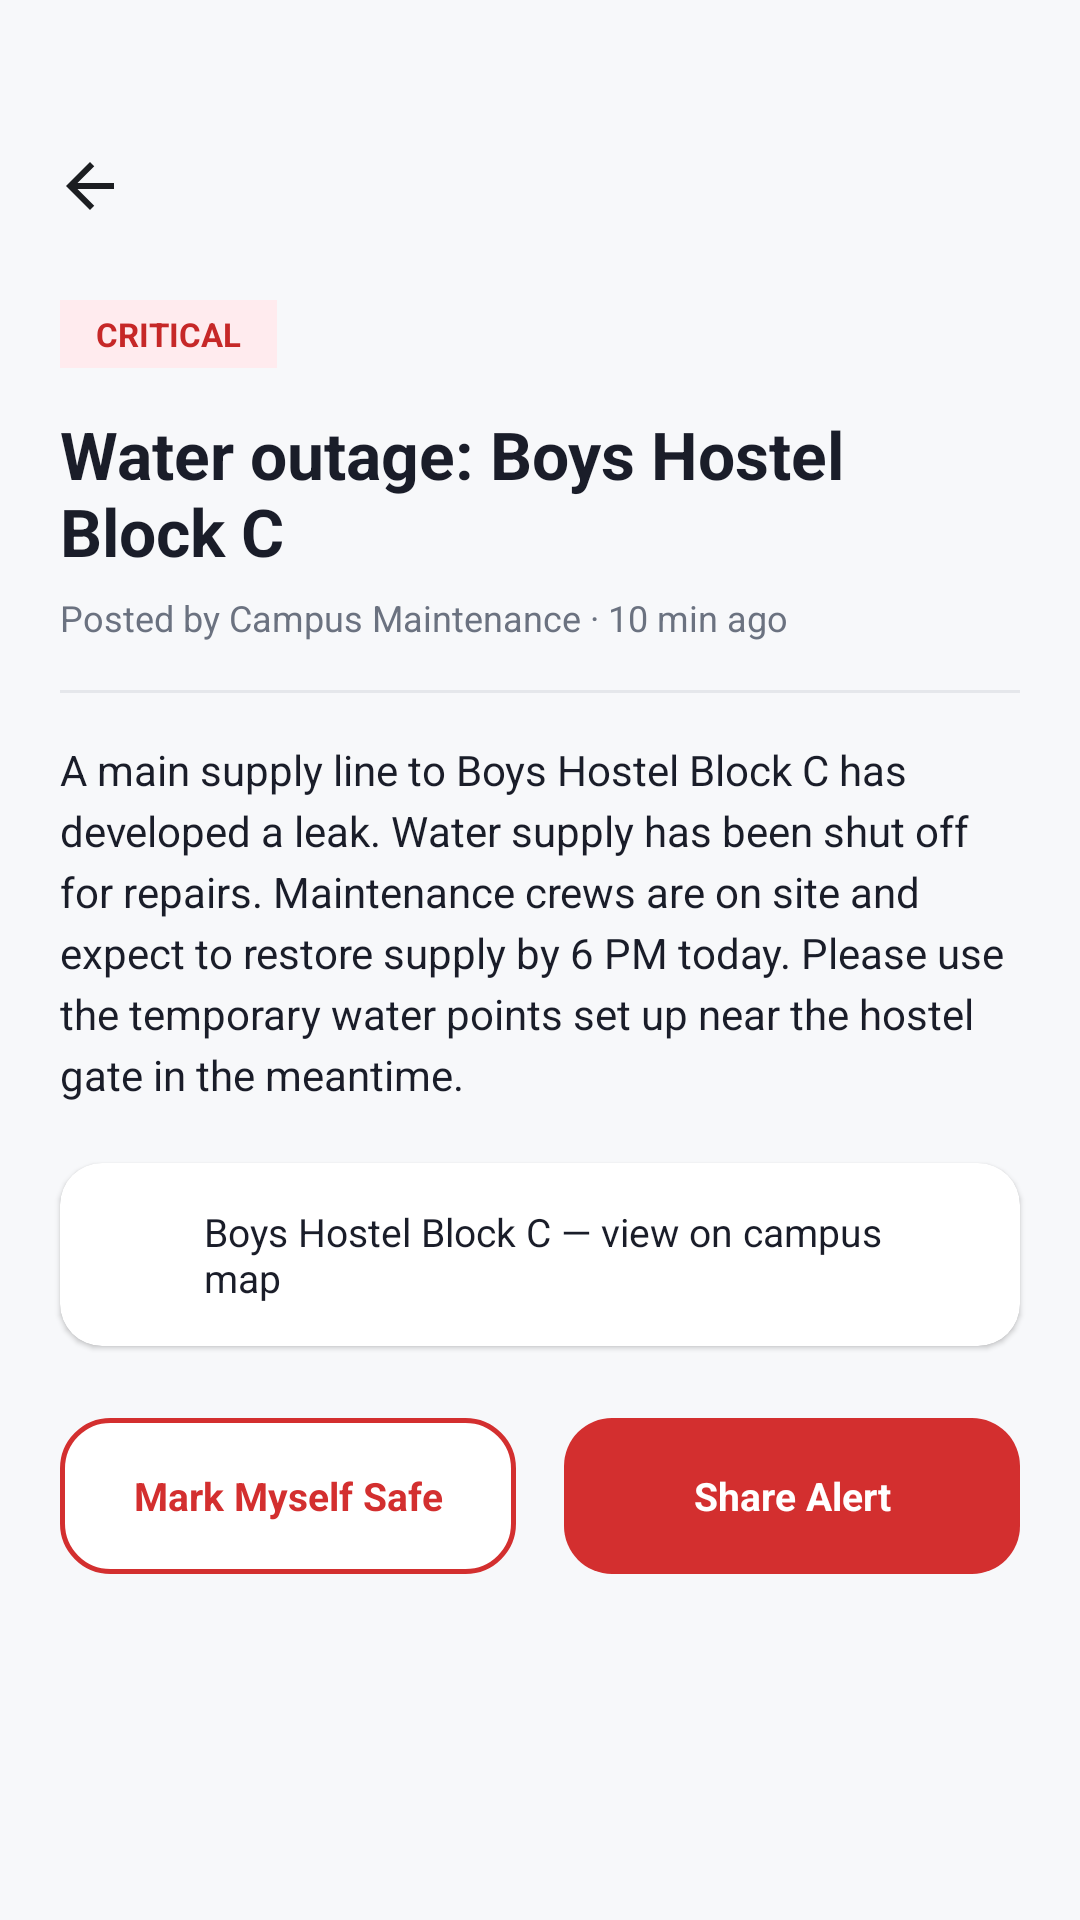

Icons on this 1080px×1920px Android screen, each with the point to tap as (x=x, y=y):
Go back: (x=90, y=186)
